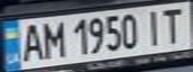0: (118, 10, 142, 49)
1: (66, 16, 90, 56)
5: (103, 12, 124, 52)
9: (84, 15, 109, 54)
A: (18, 20, 45, 62)
I: (139, 7, 169, 46)
M: (36, 18, 66, 60)
T: (157, 5, 190, 44)
